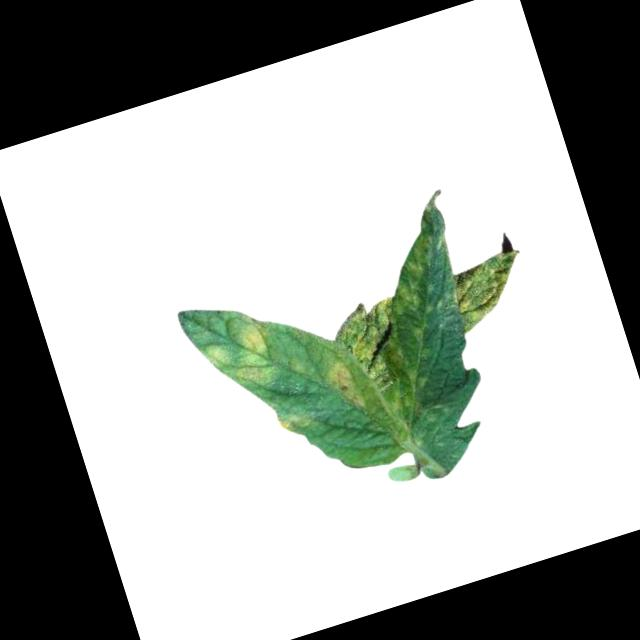Leaf_Mold: (194, 309, 288, 402), (331, 296, 414, 393), (447, 247, 535, 331), (383, 253, 438, 315), (329, 353, 365, 412), (276, 402, 319, 436)
